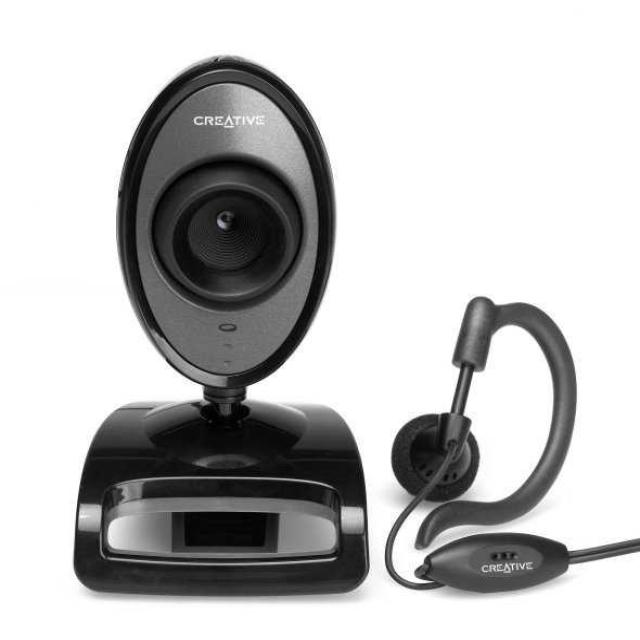microphone: (394, 302, 498, 511)
